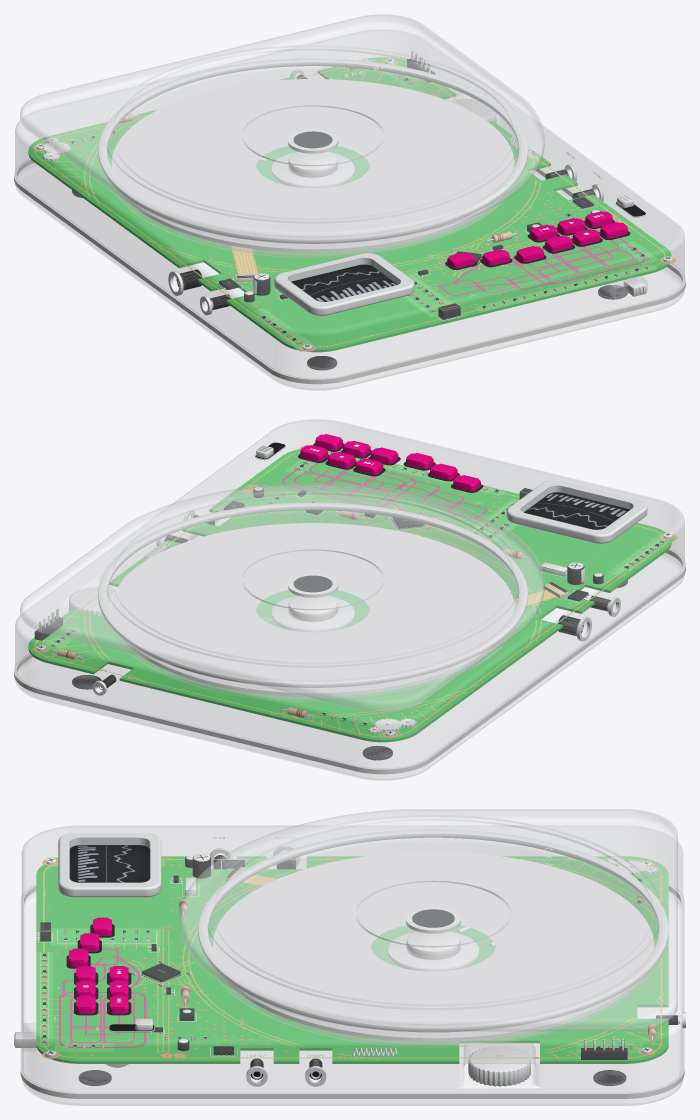
The model's file is cd_player.glb.
3 views of the same model, one above another, from view 1: azimuth 30°, elevation 25°; view 2: azimuth 150°, elevation 25°; view 3: azimuth 270°, elevation 25° (orthographic). The views are drawn at different scales.
Visible parts, largest first — view 1: Lid, Body, Disc, Mech_PCB, Deck, Body_Trim, Mech_Traces, Mech_Silkscreen, Display, Spindle, CRT_Screen, Mech_SMD (+4 smaller); view 2: Lid, Body, Disc, Mech_PCB, Deck, Body_Trim, Mech_Traces, Display, Mech_Silkscreen, Spindle, CRT_Screen, Mech_LidHardware (+6 smaller); view 3: Lid, Body, Disc, Mech_PCB, Deck, Body_Trim, Mech_Traces, Mech_Silkscreen, Display, CRT_Screen, Spindle, Volume_Wheel (+14 smaller).
Boxes of the visible parts, left/top/right/bottom form: Lid: left=20, top=14, right=544, bottom=243; Body: left=15, top=29, right=684, bottom=390; Disc: left=111, top=79, right=514, bottom=252; Mech_PCB: left=28, top=57, right=671, bottom=352; Deck: left=98, top=58, right=527, bottom=243; Body_Trim: left=14, top=99, right=685, bottom=384; Mech_Traces: left=33, top=60, right=665, bottom=347; Mech_Silkscreen: left=33, top=60, right=675, bottom=351; Display: left=274, top=253, right=414, bottom=315; Spindle: left=271, top=152, right=354, bottom=187; CRT_Screen: left=291, top=264, right=397, bottom=301; Mech_SMD: left=71, top=73, right=650, bottom=344; Lid: left=20, top=483, right=544, bottom=712; Body: left=15, top=419, right=684, bottom=780; Disc: left=111, top=523, right=514, bottom=696; Mech_PCB: left=28, top=449, right=671, bottom=742; Deck: left=98, top=502, right=527, bottom=687; Body_Trim: left=14, top=520, right=685, bottom=774; Mech_Traces: left=34, top=450, right=666, bottom=737; Display: left=506, top=481, right=647, bottom=543; Mech_Silkscreen: left=33, top=446, right=677, bottom=737; Spindle: left=271, top=596, right=354, bottom=631; CRT_Screen: left=524, top=492, right=629, bottom=529; Mech_LidHardware: left=288, top=573, right=338, bottom=597; Lid: left=180, top=809, right=677, bottom=1031; Body: left=21, top=825, right=682, bottom=1105; Disc: left=213, top=852, right=653, bottom=1042; Mech_PCB: left=36, top=856, right=668, bottom=1063; Deck: left=198, top=829, right=668, bottom=1032; Body_Trim: left=20, top=884, right=684, bottom=1098; Mech_Traces: left=43, top=858, right=664, bottom=1059; Mech_Silkscreen: left=36, top=857, right=655, bottom=1058; Display: left=58, top=833, right=161, bottom=897; CRT_Screen: left=70, top=845, right=149, bottom=882; Spindle: left=387, top=931, right=478, bottom=970; Volume_Wheel: left=468, top=1046, right=530, bottom=1086.
Size of the model in its own units: 0.1429 by 0.0271 by 0.1828.
Materials: 36 (1 with a texture image).
